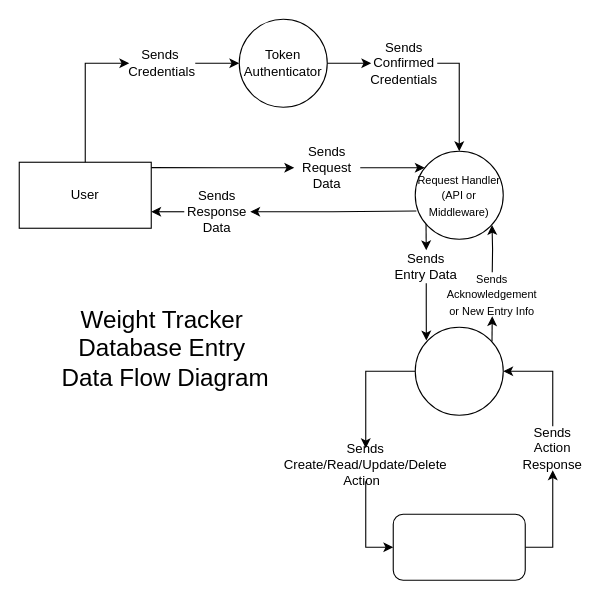
The diagram is 611 pixels wide and 600 high, and some of its shapes have lost their labels. Each missing label, with the box of its shape:
MongoDB CRUD Method: (414, 326, 503, 415)
Weight Tracker Database: (392, 513, 525, 580)
